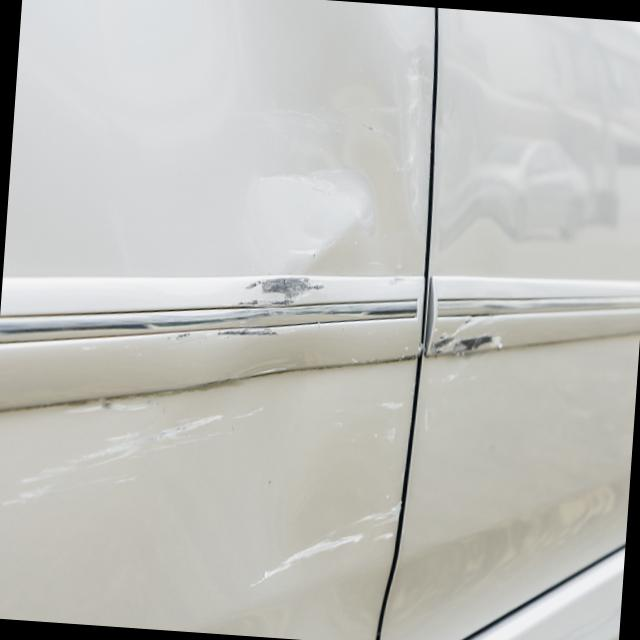Cabossage: (256, 127, 404, 279)
Rayure: (421, 319, 524, 369), (236, 270, 325, 306)
